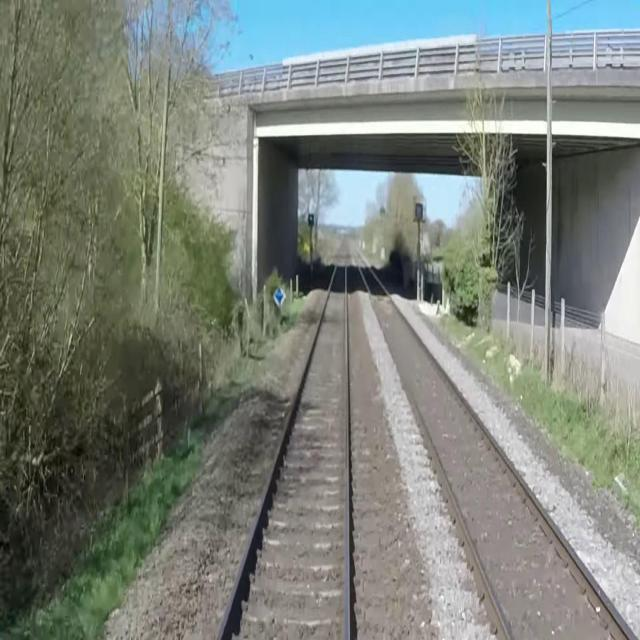rail-track: (354, 249, 630, 639), (221, 258, 345, 639)
